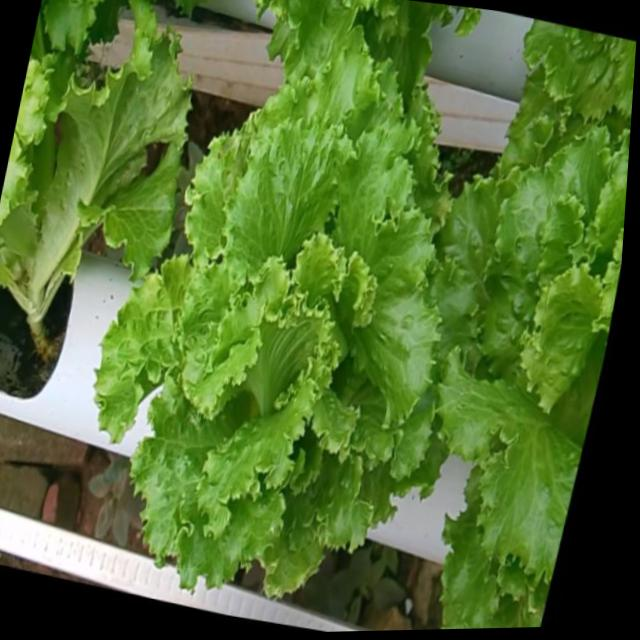Mature: (90, 57, 451, 606), (432, 135, 628, 599)
